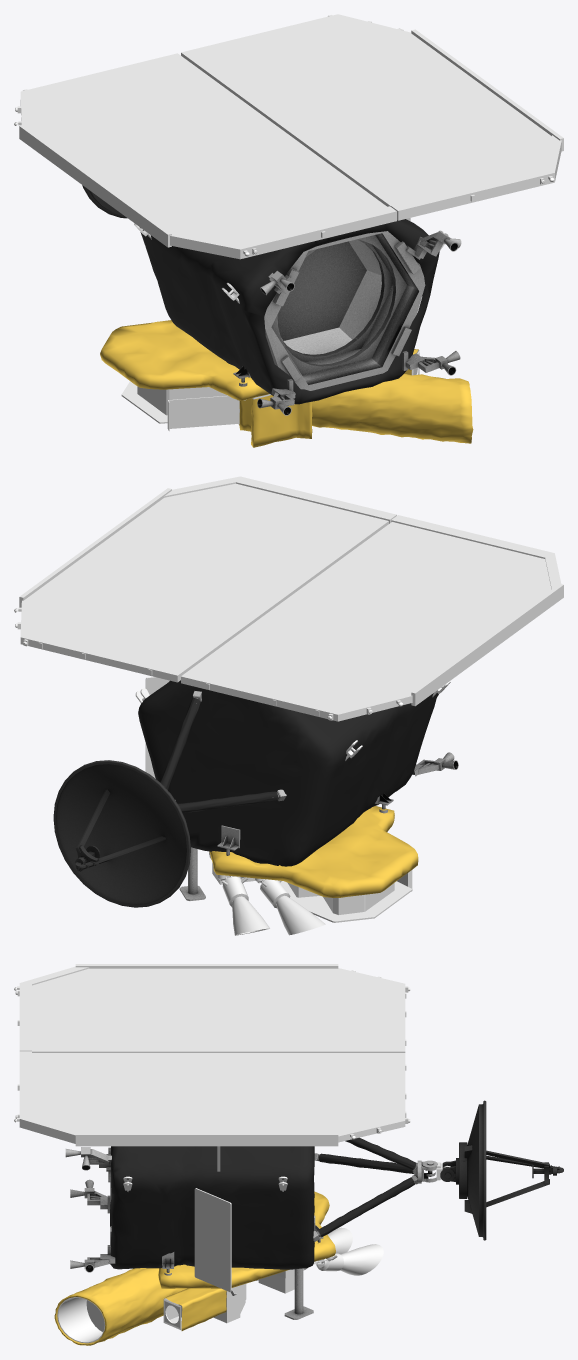
File: deep-impact.glb
The picture shows the model from 3 angles, top to bottom: view 1: azimuth 30°, elevation 25°; view 2: azimuth 150°, elevation 25°; view 3: azimuth 270°, elevation 25°; orthographic projection. The views are drawn at different scales.
Parts seen in each view (by area): view 1: shiny_panels, hole_AO, foil_gold, black_krinkle, tex_01; view 2: shiny_panels, black_krinkle, tex_01, dish_AO, foil_gold, hole_AO; view 3: shiny_panels, black_krinkle, tex_01, foil_gold, dish_AO, hole_AO.
Boxes of the visible parts, x1,y1,x2,y2 form: shiny_panels: (20, 14, 551, 243); hole_AO: (233, 231, 461, 415); foil_gold: (100, 320, 473, 447); black_krinkle: (140, 219, 439, 404); tex_01: (14, 15, 563, 431); shiny_panels: (20, 483, 551, 714); black_krinkle: (138, 680, 438, 866); tex_01: (14, 476, 563, 935); dish_AO: (53, 760, 190, 907); foil_gold: (209, 806, 418, 897); hole_AO: (175, 691, 458, 900); shiny_panels: (32, 968, 405, 1136); black_krinkle: (110, 1137, 415, 1269); tex_01: (14, 964, 450, 1343); foil_gold: (54, 1191, 335, 1345); dish_AO: (440, 1100, 563, 1240); hole_AO: (65, 1147, 437, 1319).
Size of the model in its own units: 2.88 by 1.99 by 3.91.
Materials: 7 (3 with a texture image).
